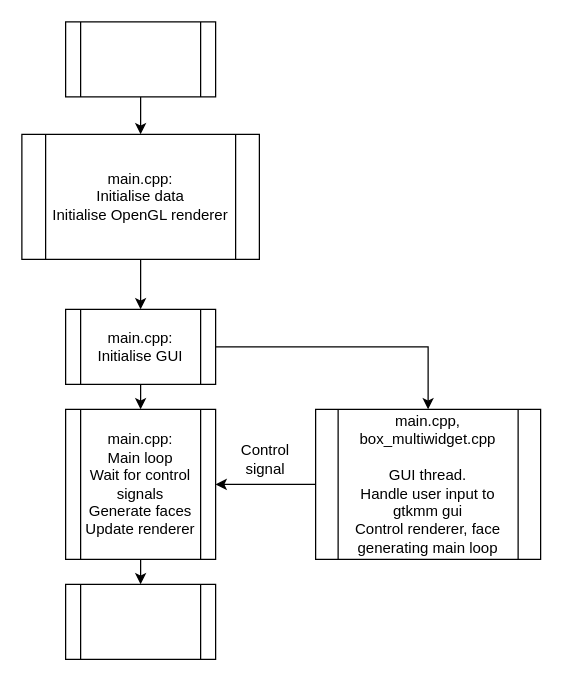
Some shapes in this 563 by 681 pixel diagram are drawn without their labels. Here are the shapes that lost their labels. From the top down, the centre of each, then its label:
At (x=140, y=59): "main.cpp: Parse arguments".
At (x=140, y=621): "main.cpp: Output".
